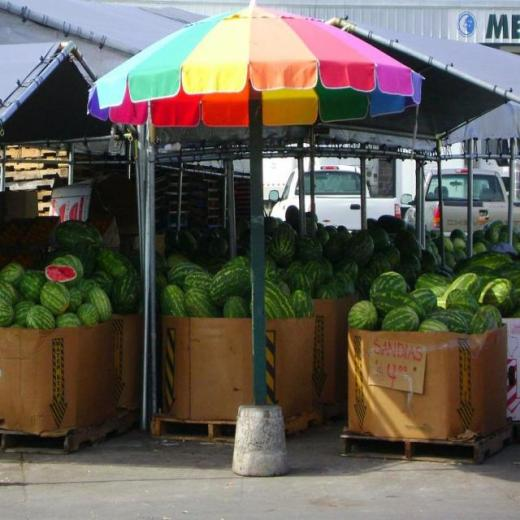Cherry: (264, 199, 520, 336), (157, 254, 308, 316), (42, 221, 138, 310), (0, 256, 111, 330)
